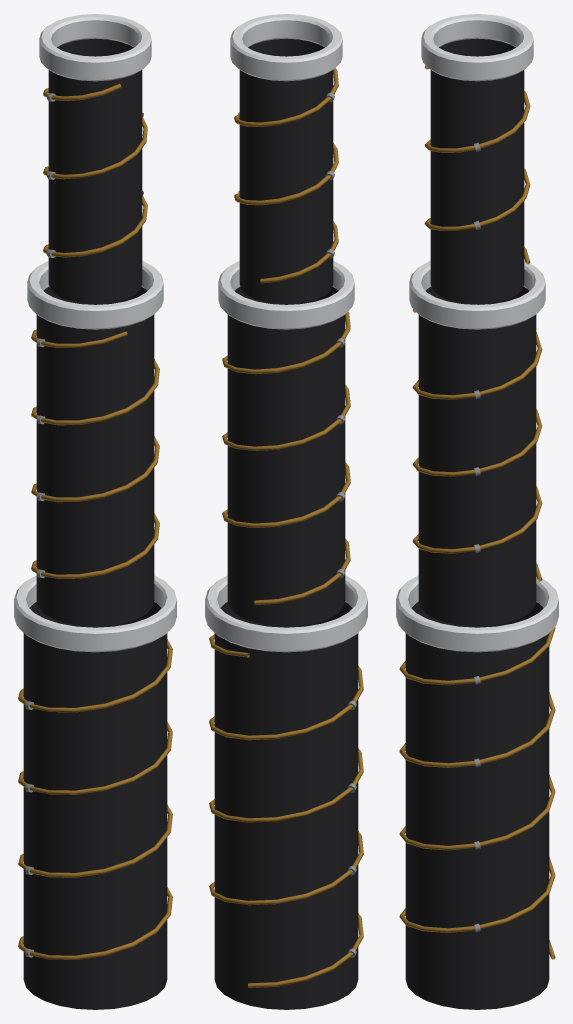
File: sm1_mast.obj
3 views of the same model, side by side, from view 1: azimuth 30°, elevation 25°; view 2: azimuth 150°, elevation 25°; view 3: azimuth 270°, elevation 25° (orthographic).
Visible parts, largest first — view 1: sm1_mast; view 2: sm1_mast; view 3: sm1_mast.
Boxes of the visible parts, x1,y1,x2,y2 form: sm1_mast: [14, 14, 176, 1009]; sm1_mast: [205, 14, 367, 1009]; sm1_mast: [396, 14, 558, 1009].
Size of the model in its own units: 0.68 by 4.34 by 0.68.
